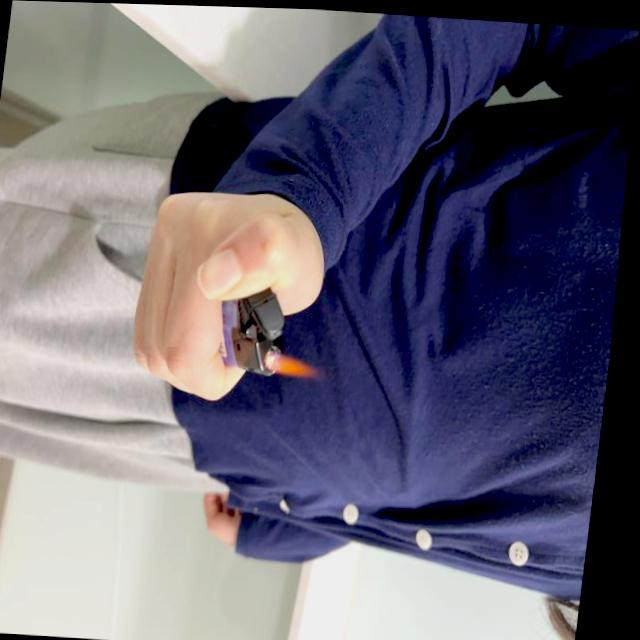Fire: (274, 348, 331, 376)
